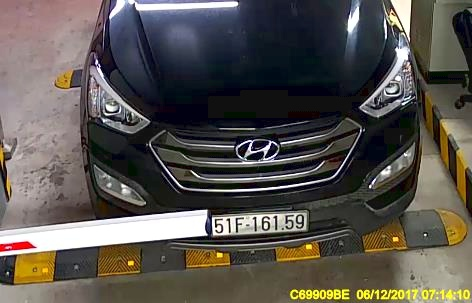plate: (209, 209, 312, 234)
